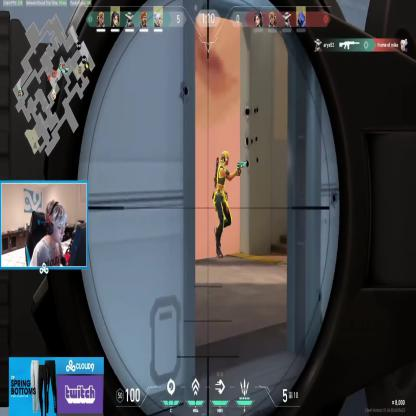enemy: (212, 148, 240, 258)
enemy_head: (220, 151, 229, 168)
